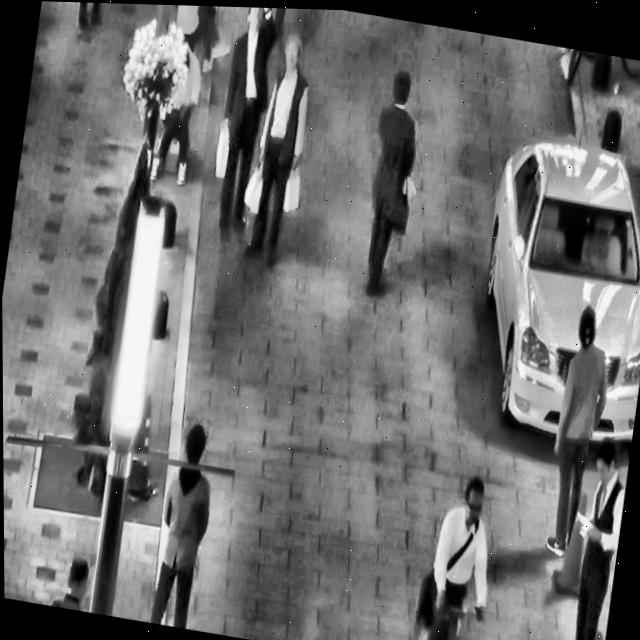light_vehicle: (457, 107, 640, 452)
